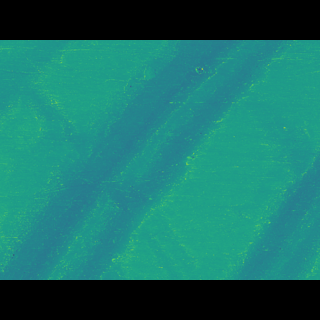Loch: (0, 71, 295, 250), (214, 154, 320, 249)
